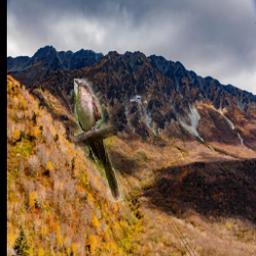Cuckoo: (74, 80, 125, 203)
